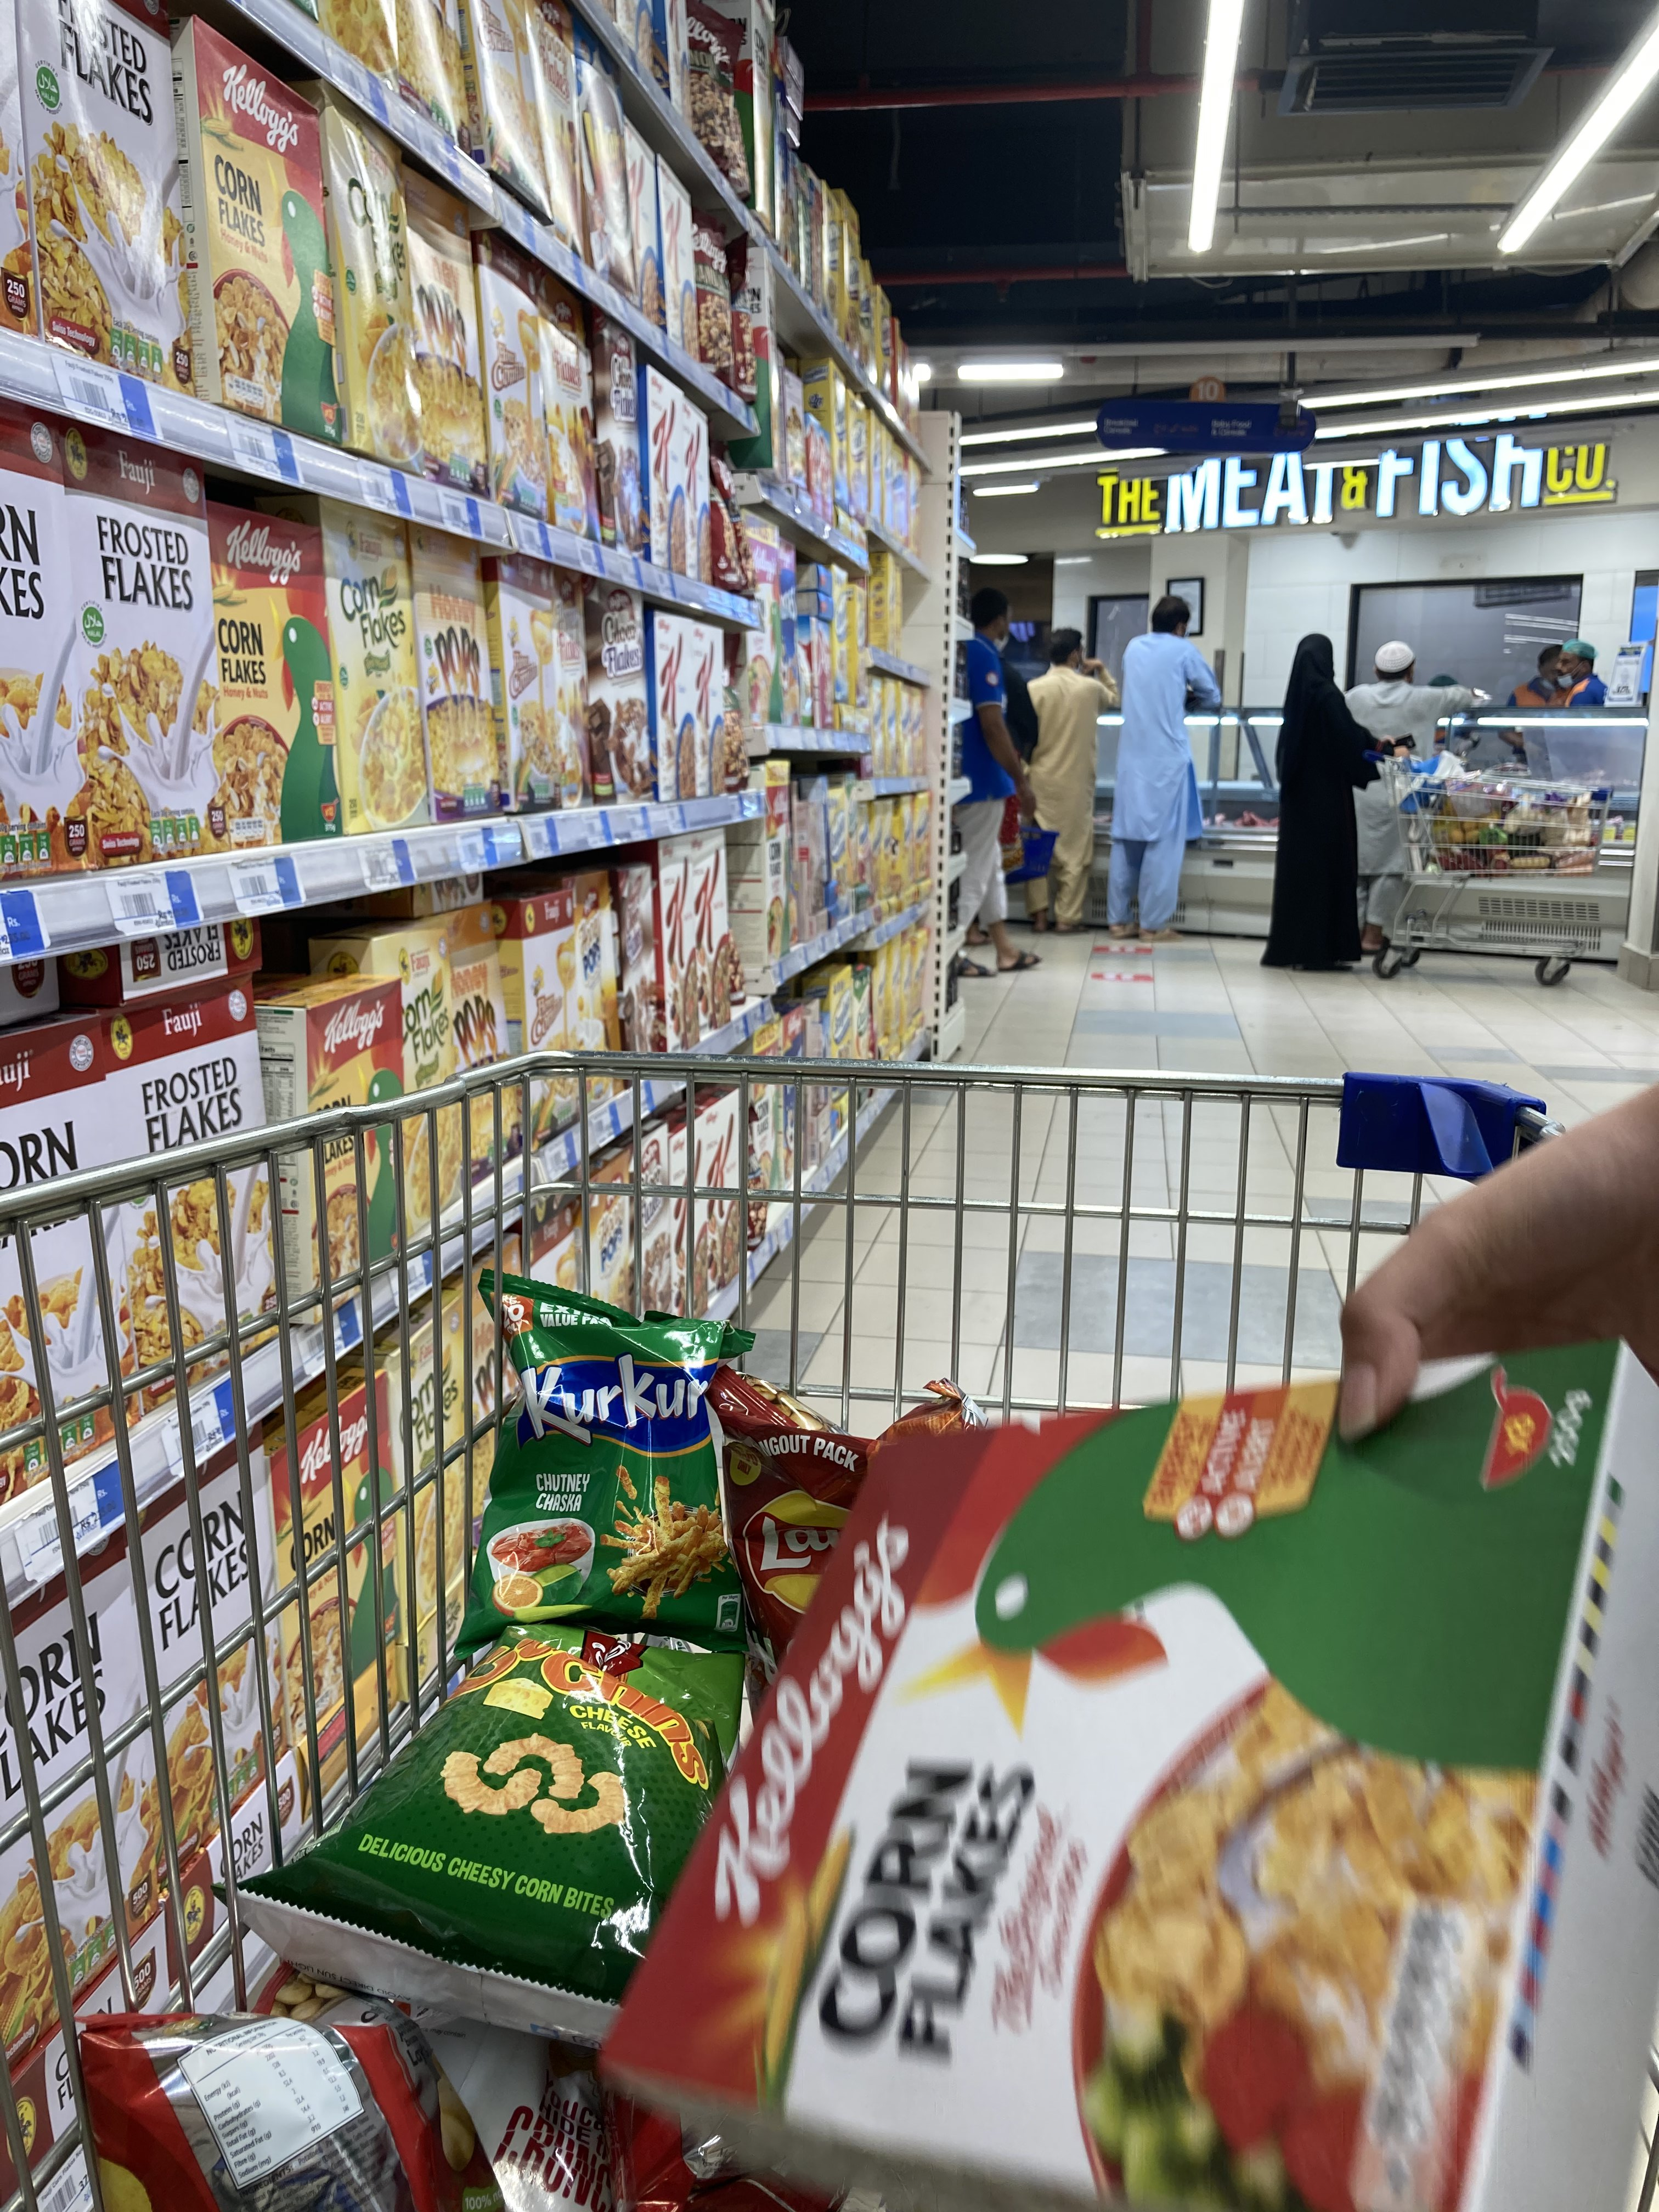Kellogg's Corn Flakes: (605, 1315, 1659, 2210)
